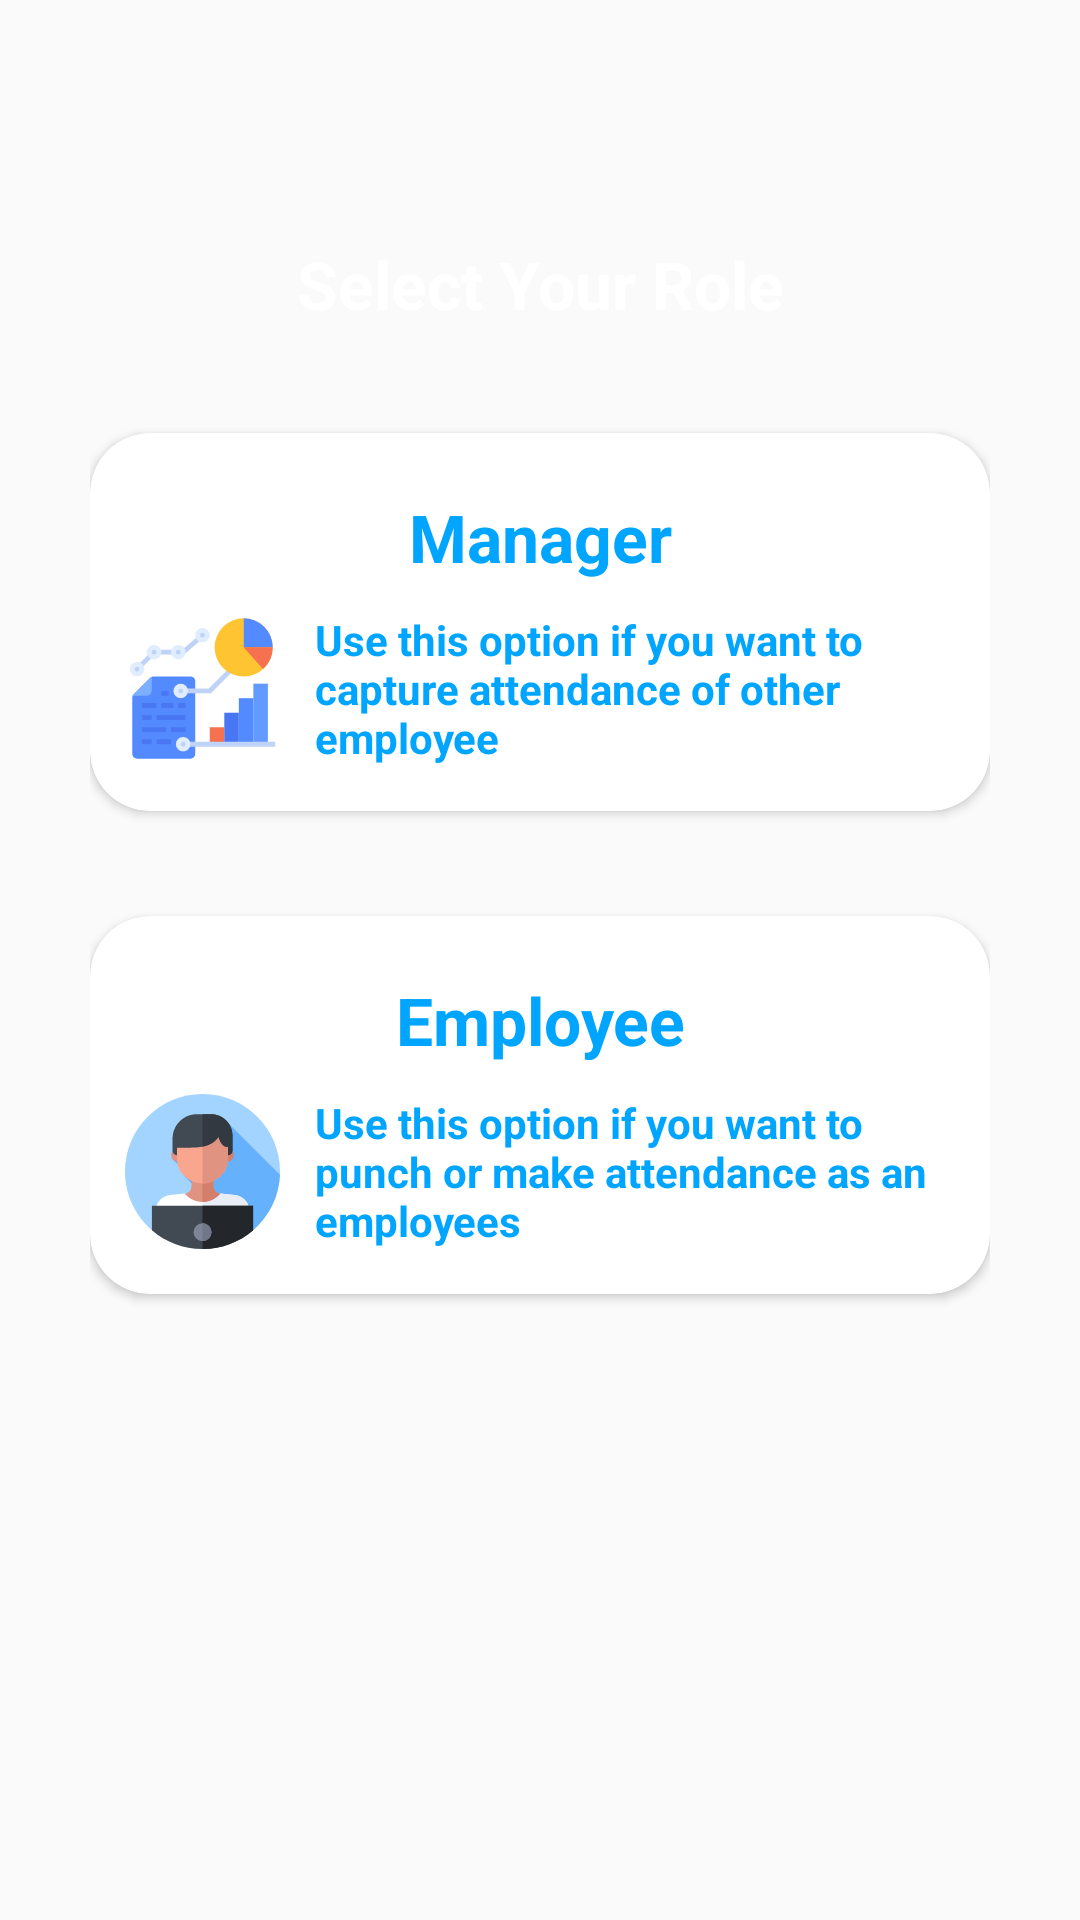

Icon click points for this 1080px×1920px phone screenshot, format (x,y):
business: (202,688)
